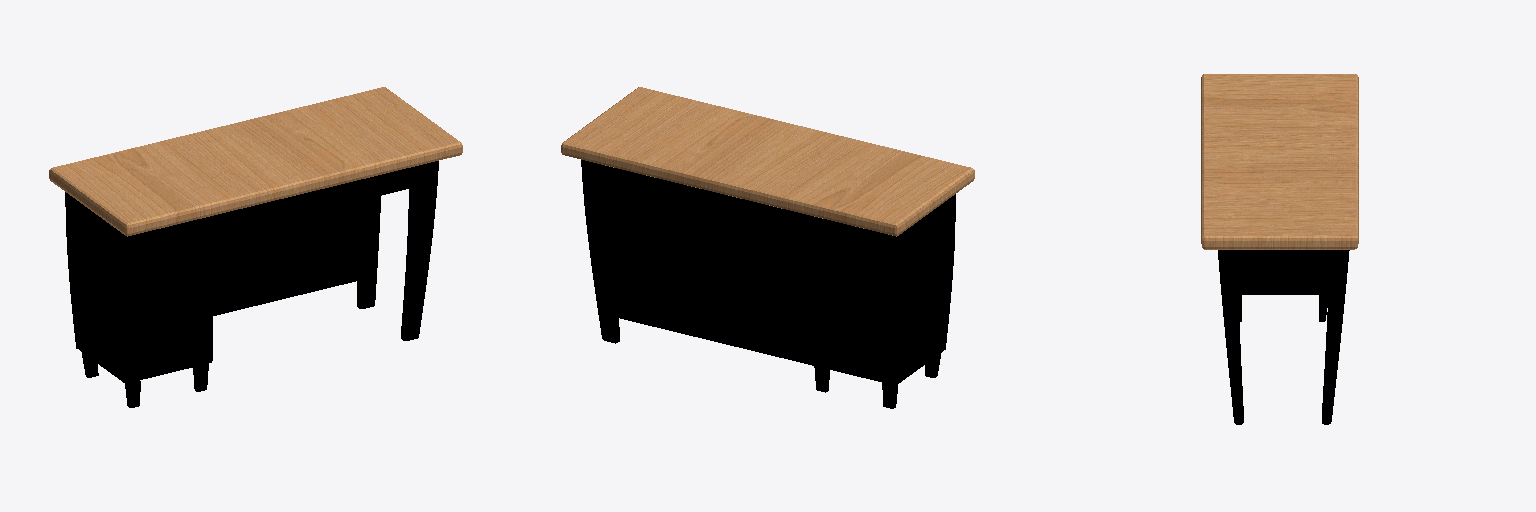
The picture shows the model from 3 angles: view 1: azimuth 30°, elevation 25°; view 2: azimuth 150°, elevation 25°; view 3: azimuth 270°, elevation 25°; orthographic projection.
Visible parts, largest first — view 1: polySurface8; view 2: polySurface8; view 3: polySurface8.
Boxes of the visible parts, box(x1,y1,x2,y2) form: polySurface8: box(49, 87, 462, 407); polySurface8: box(561, 87, 974, 408); polySurface8: box(1201, 74, 1358, 424).
Bounding box in the file's own units: 9.97 × 5.7 × 4.03.
Materials: 5 (1 with a texture image).